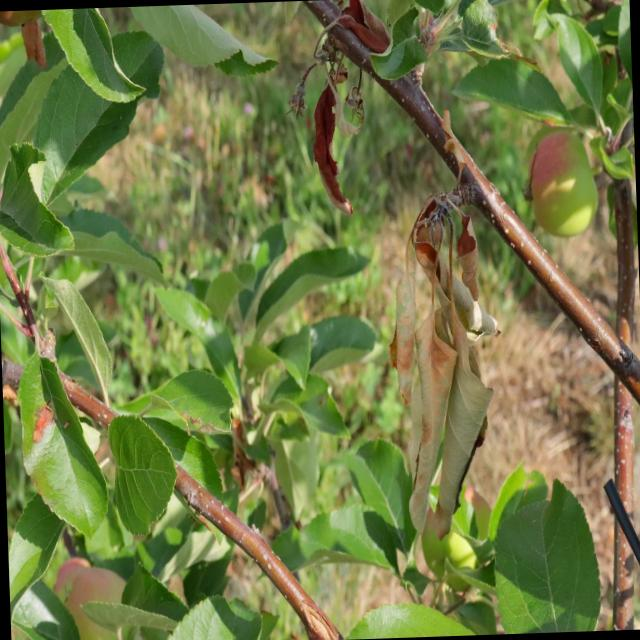-FireBlight-: (394, 132, 484, 538), (307, 4, 381, 226)
